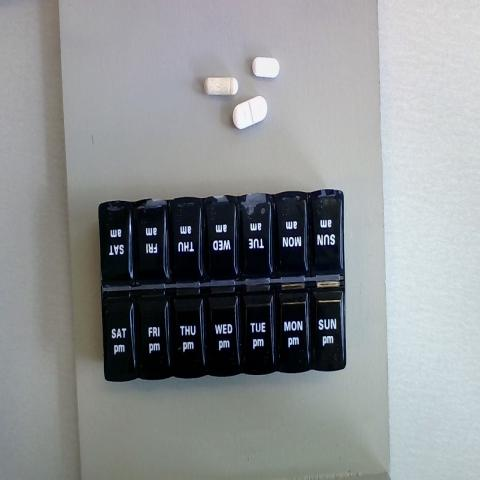FRI-am: (134, 200, 166, 286)
FRI-pm: (133, 287, 172, 376)
MON-am: (270, 192, 305, 273)
MON-pm: (277, 286, 310, 370)
Pill: (225, 95, 280, 133), (196, 64, 243, 101), (246, 44, 286, 87)
PillBox: (81, 178, 360, 403)
SAT-am: (100, 202, 132, 285)
SAT-pm: (104, 291, 133, 381)
SUN-am: (310, 190, 343, 278)
SUN-pm: (310, 282, 344, 367)
THU-am: (169, 200, 201, 280)
THU-pm: (168, 288, 208, 378)
TUE-am: (236, 198, 270, 284)
TUE-pm: (242, 287, 278, 374)
WED-am: (203, 197, 237, 284)
WED-pm: (207, 294, 241, 377)
